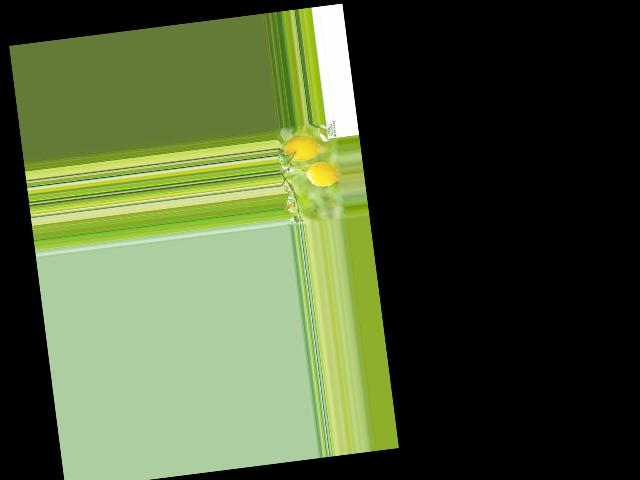lemon: (280, 131, 324, 166)
